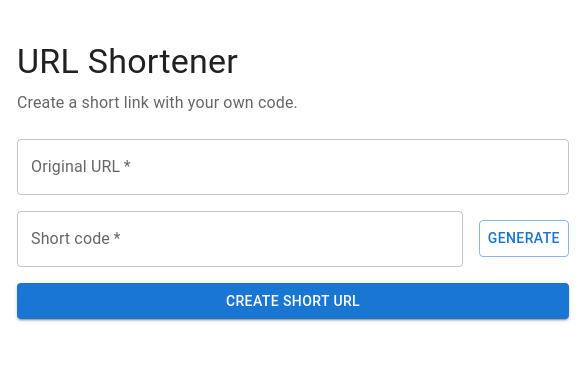
Scenario: shows a retry error when short code generation fails
Click the button "Generate". click: (524, 239)
box: [479,220,569,257]
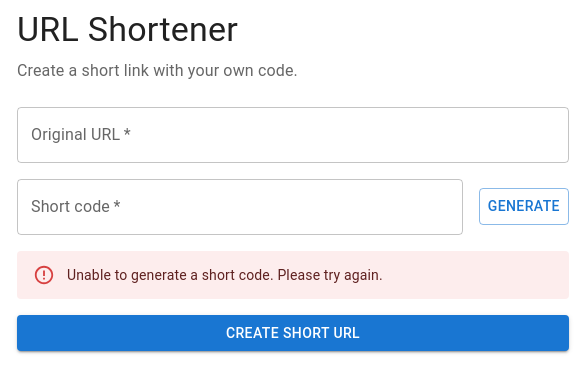
Now the text "Unable to generate a short code. Please try again." is shown, box [67,267,383,283]
